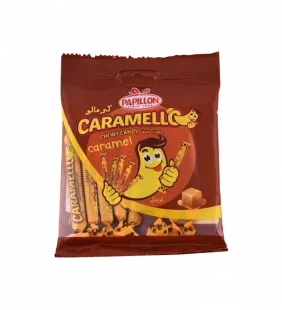Promotion: (45, 44, 236, 267)
